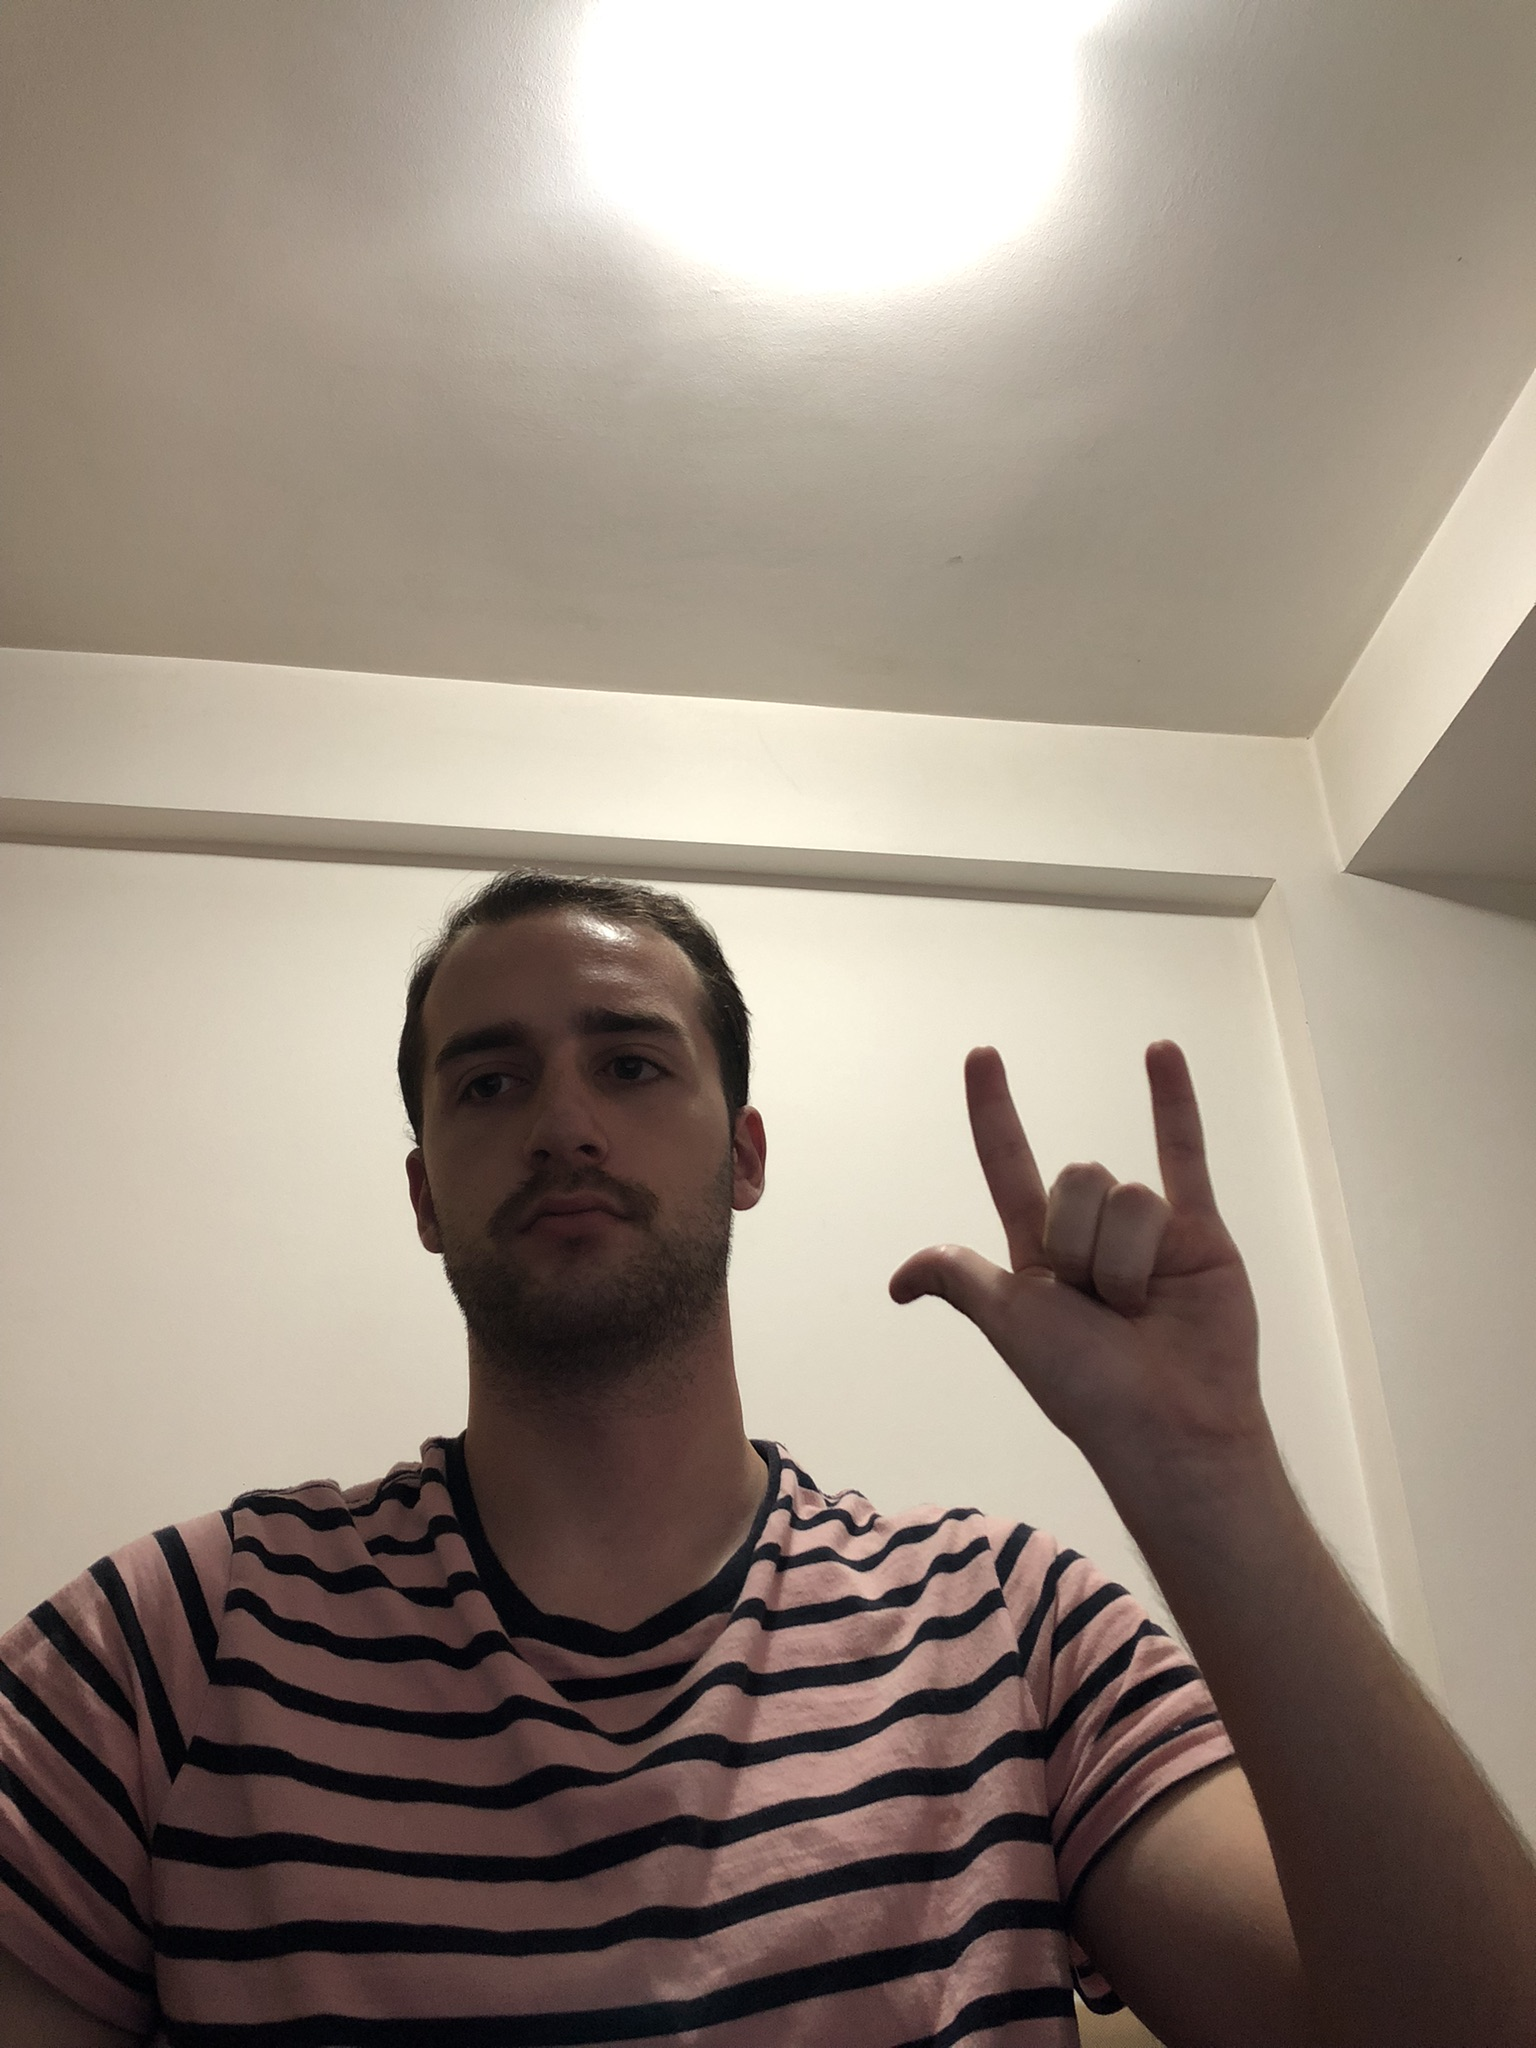I Love You: (879, 1030, 1294, 1474)
